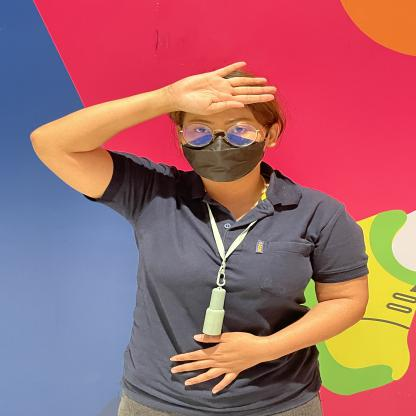Sick: (121, 45, 312, 120)
